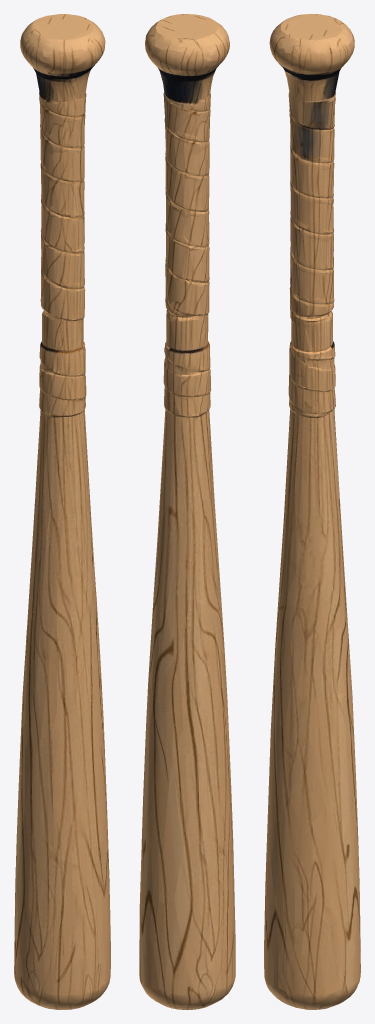
File: bastao-low.glb
3 renders of one model, left to right at view 1: azimuth 90°, elevation 25°; view 2: azimuth 150°, elevation 25°; view 3: azimuth 270°, elevation 25°, orthographic.
Bounding box in the file's own units: 0.1719 × 1.9 × 0.1721.
Materials: 1 (1 with a texture image).
